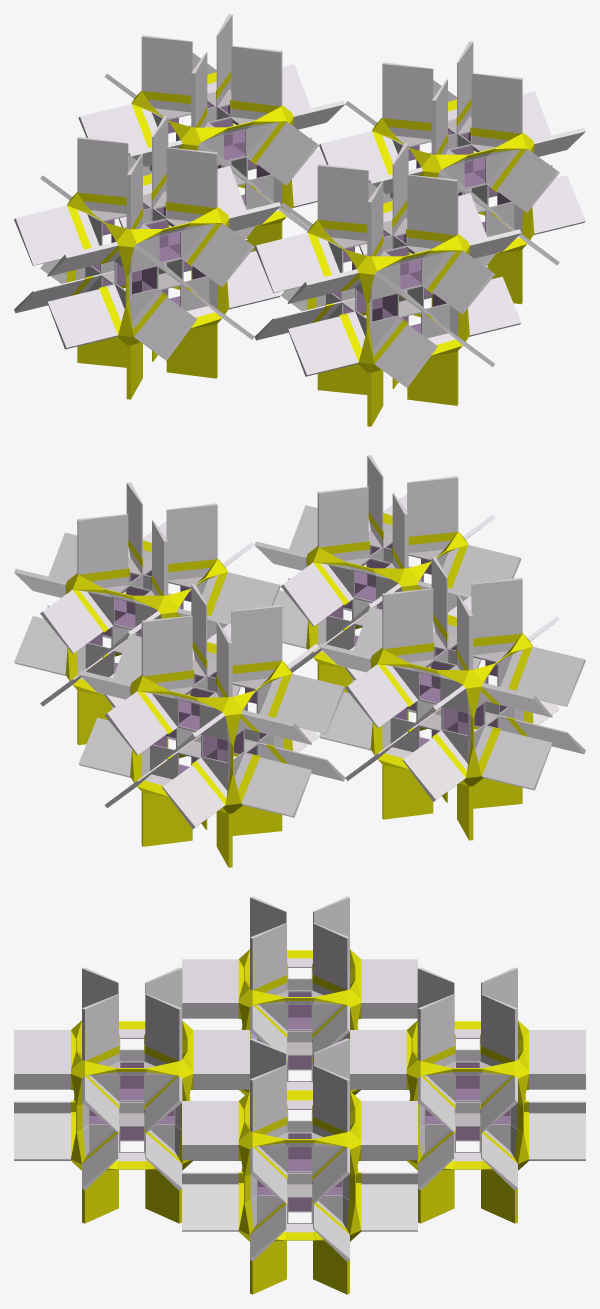
Rendered from test1_4parts.fbx.
The picture shows the model from 3 angles, top to bottom: view 1: azimuth 30°, elevation 25°; view 2: azimuth 150°, elevation 25°; view 3: azimuth 270°, elevation 25°; orthographic projection. The views are drawn at different scales.
Parts seen in each view (by area): view 1: part_04, part_01, part_03, part_02; view 2: part_02, part_01, part_03, part_04; view 3: part_03, part_02, part_04, part_01.
Boxes of the visible parts, box(x1,y1,x2,y2) form: part_04: box(254, 143, 521, 426); part_01: box(14, 116, 280, 399); part_03: box(319, 41, 585, 306); part_02: box(78, 14, 345, 279); part_02: box(78, 584, 345, 867); part_01: box(319, 557, 585, 840); part_03: box(14, 482, 280, 747); part_04: box(254, 455, 521, 720); part_03: box(182, 1038, 417, 1294); part_02: box(350, 967, 585, 1223); part_04: box(14, 967, 249, 1223); part_01: box(182, 896, 417, 1094).
Bounding box in the file's own units: 91.56 × 37.8 × 91.56.
